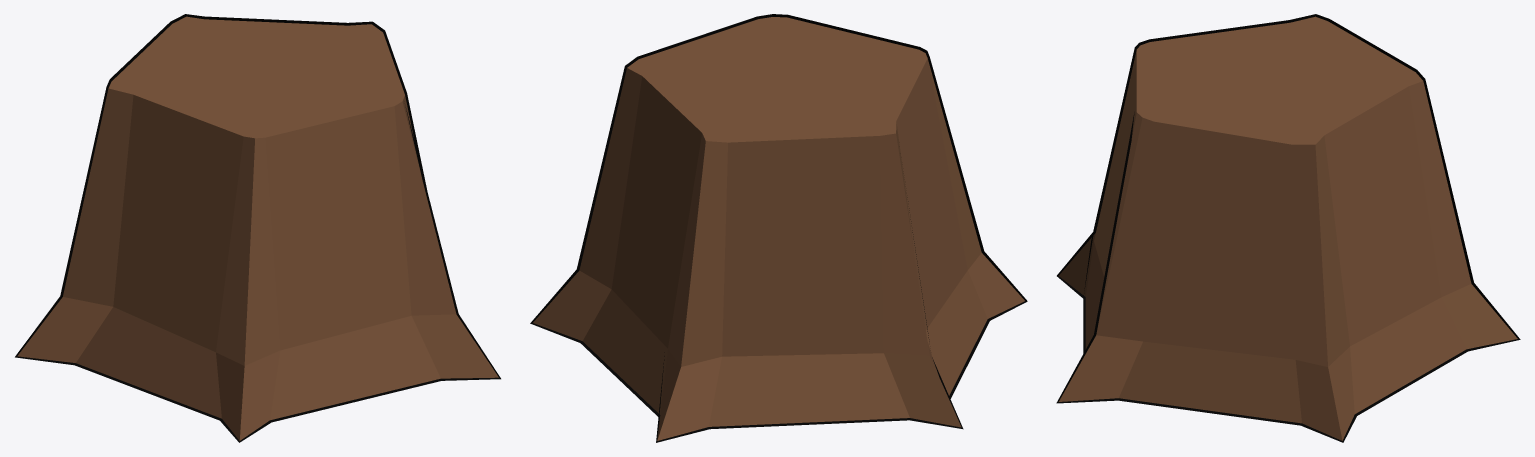
Rendered from Stump_Shaded.fbx.
The picture shows the model from 3 angles, left to right: view 1: azimuth 30°, elevation 25°; view 2: azimuth 150°, elevation 25°; view 3: azimuth 270°, elevation 25°; orthographic projection. The views are drawn at different scales.
Visible parts, largest first — view 1: Cylinder; view 2: Cylinder; view 3: Cylinder.
Part boxes in pixels (<box>): Cylinder: <box>15,14,500,442</box>; Cylinder: <box>530,14,1027,442</box>; Cylinder: <box>1056,14,1520,442</box>.
Size of the model in its own units: 266 by 157 by 253.
